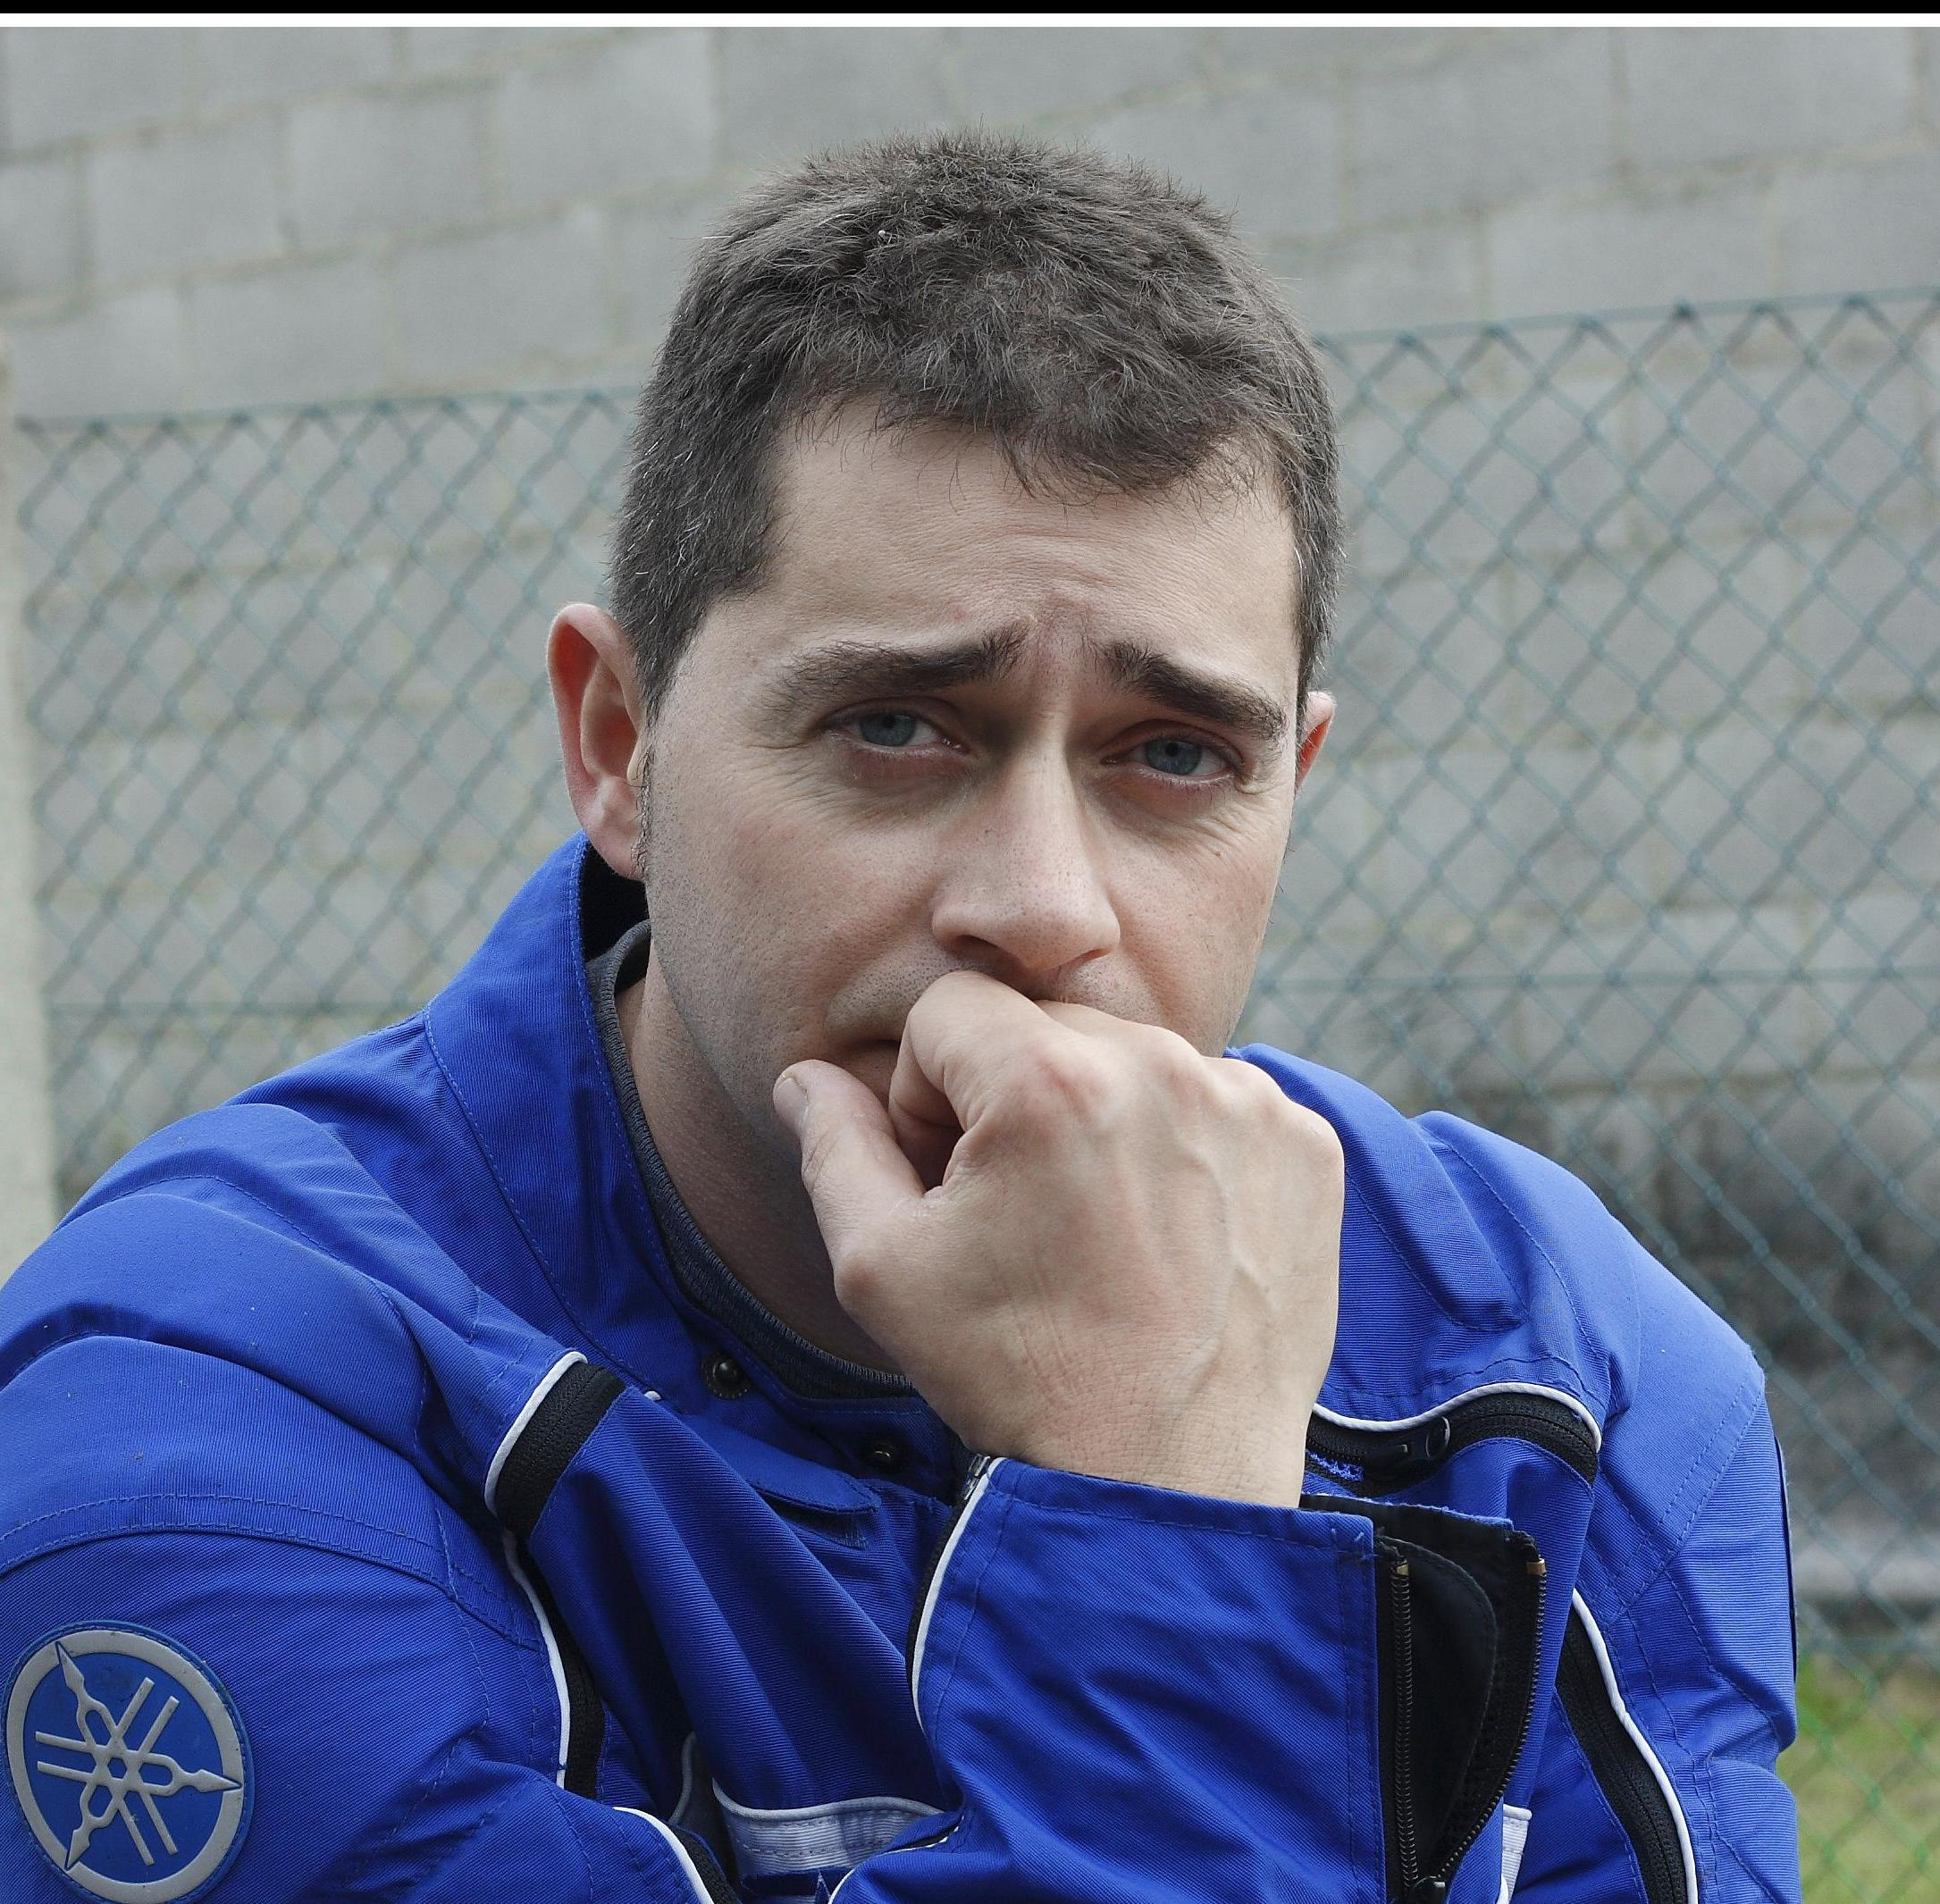Eyebags: (826, 750, 983, 825), (1091, 771, 1236, 839)
